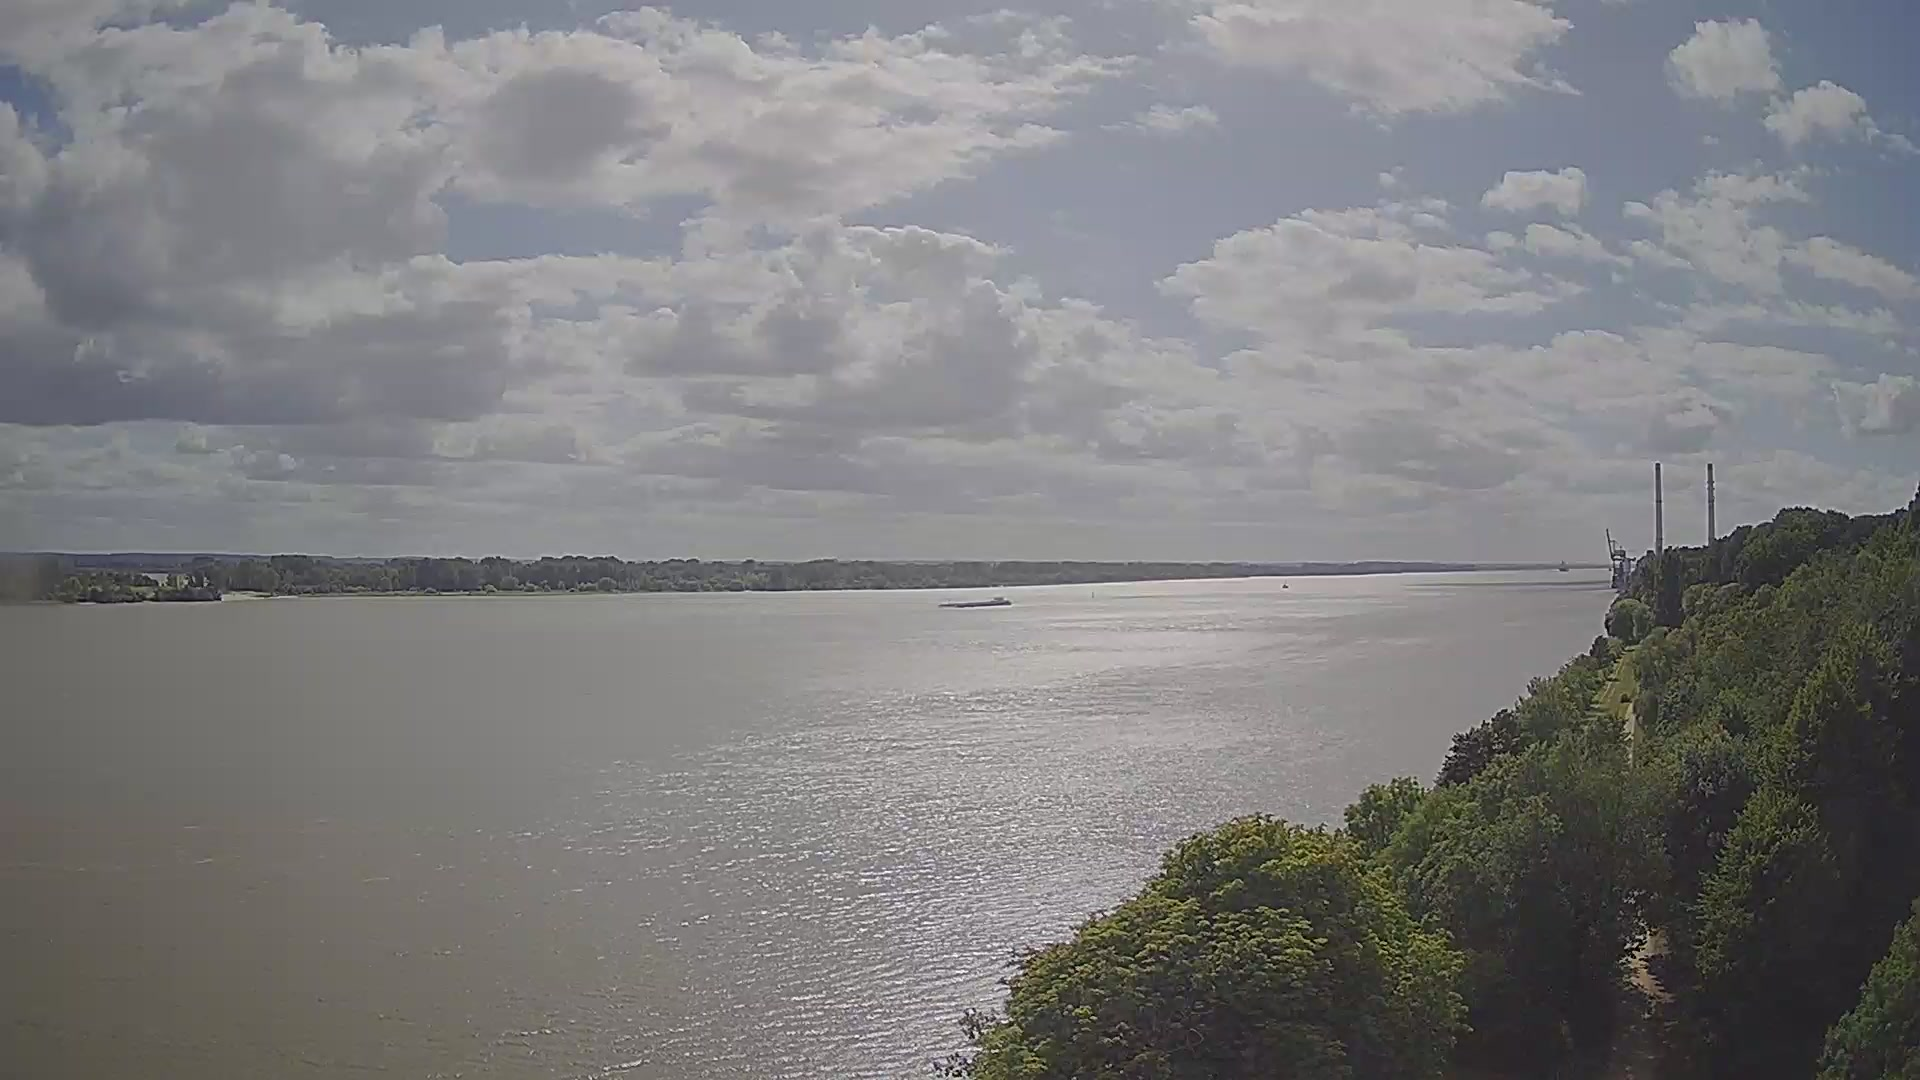sea: (938, 595, 1011, 608), (1557, 559, 1571, 574), (1280, 579, 1288, 589)
